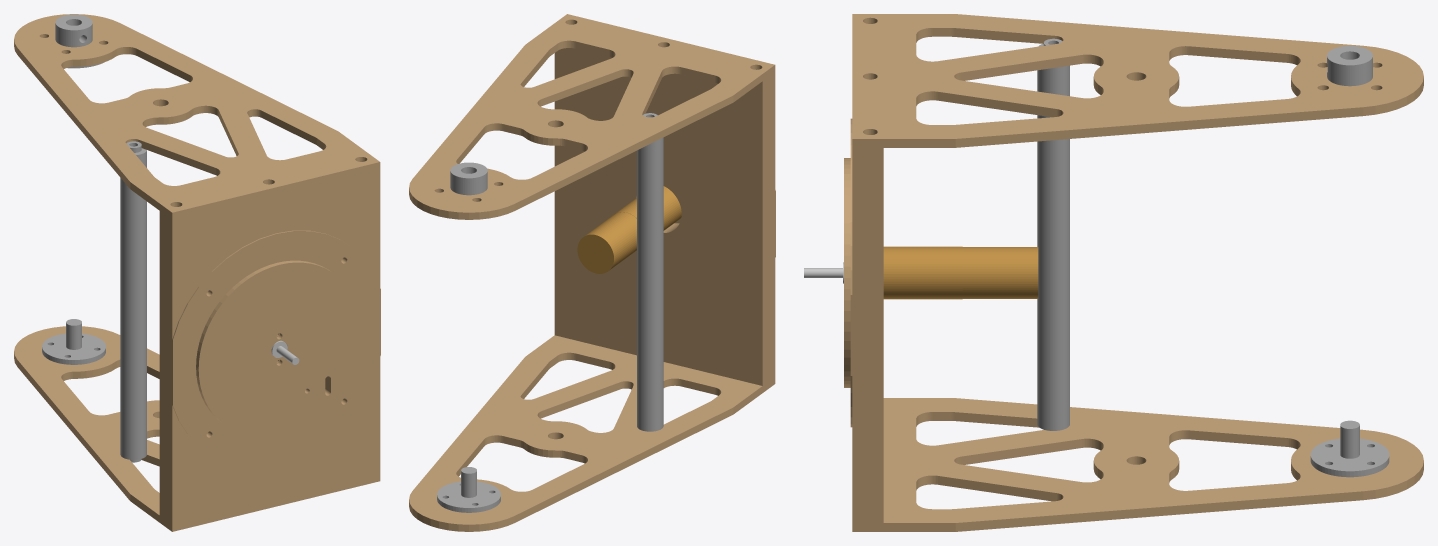
File: Shoulder.dae
The picture shows the model from 3 angles, left to right: view 1: azimuth 30°, elevation 25°; view 2: azimuth 150°, elevation 25°; view 3: azimuth 270°, elevation 25°; orthographic projection. The views are drawn at different scales.
Parts seen in each view (by area): view 1: Shoulder, Shoulder_003, Shoulder_002, Shoulder_001; view 2: Shoulder, Shoulder_003, Shoulder_005, Shoulder_002, Shoulder_001; view 3: Shoulder, Shoulder_003, Shoulder_005, Shoulder_002, Shoulder_001.
Part boxes in pixels (x1,y1,x2,y2): Shoulder: (14, 14, 380, 531); Shoulder_003: (120, 141, 146, 462); Shoulder_002: (42, 319, 105, 364); Shoulder_001: (55, 14, 103, 68); Shoulder: (409, 14, 775, 531); Shoulder_003: (637, 113, 663, 431); Shoulder_005: (577, 186, 681, 273); Shoulder_002: (437, 467, 500, 512); Shoulder_001: (450, 162, 487, 195); Shoulder: (844, 14, 1423, 531); Shoulder_003: (1037, 38, 1069, 430); Shoulder_005: (883, 246, 1038, 299); Shoulder_002: (1310, 420, 1389, 477); Shoulder_001: (1327, 46, 1372, 86).
Bounding box in the file's own units: 90 × 189 × 139.
